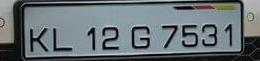1: (222, 22, 235, 47), (86, 25, 97, 50)
2: (100, 25, 119, 50)
3: (200, 23, 218, 47)
5: (180, 23, 198, 47)
7: (158, 23, 178, 48)
G: (129, 22, 152, 50)
K: (26, 25, 50, 52)
L: (50, 26, 72, 51)
